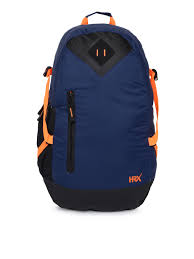backpack: (36, 11, 159, 211)
